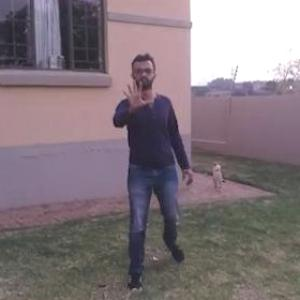follow_hand: (118, 73, 154, 117)
